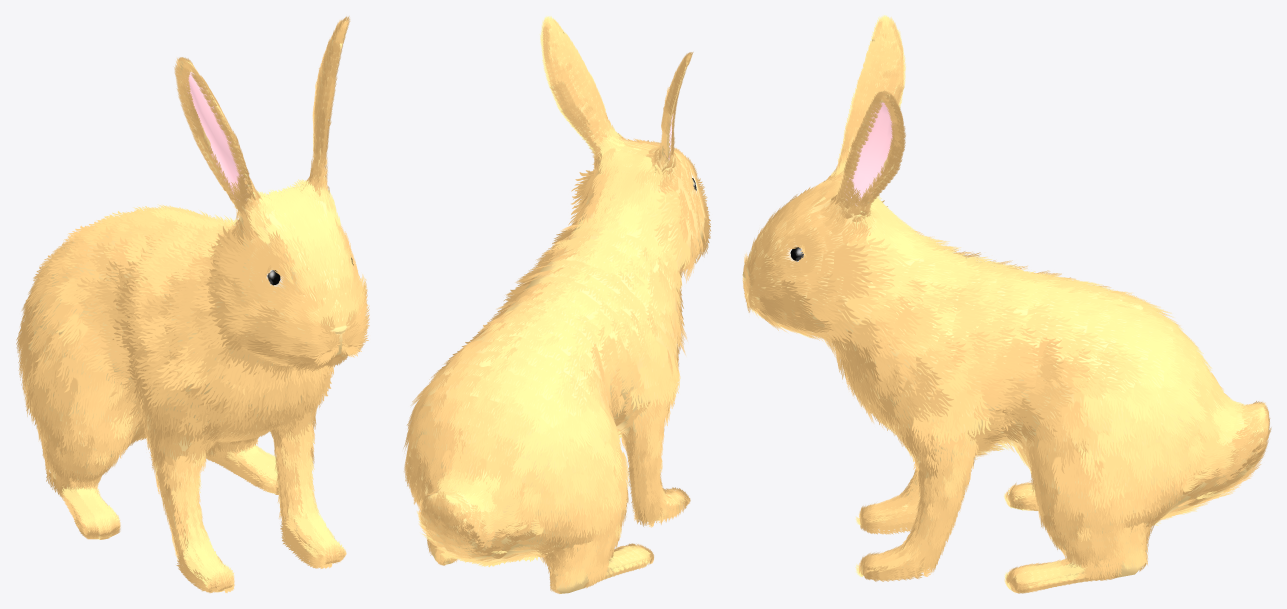
The picture shows the model from 3 angles, left to right: view 1: azimuth 30°, elevation 25°; view 2: azimuth 150°, elevation 25°; view 3: azimuth 270°, elevation 25°; orthographic projection. The views are drawn at different scales.
Parts seen in each view (by area): view 1: Rabbit1; view 2: Rabbit1; view 3: Rabbit1.
Boxes of the visible parts, x1,y1,x2,y2 form: Rabbit1: [16, 16, 369, 593]; Rabbit1: [403, 16, 710, 593]; Rabbit1: [742, 15, 1271, 593].
Size of the model in its own units: 1.43 by 3.14 by 3.01.
2 materials, 2 textured.
